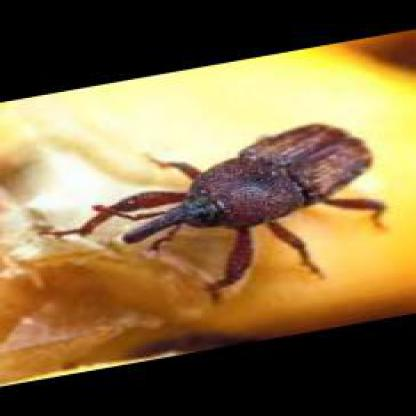ash weevil: (75, 122, 391, 288)
